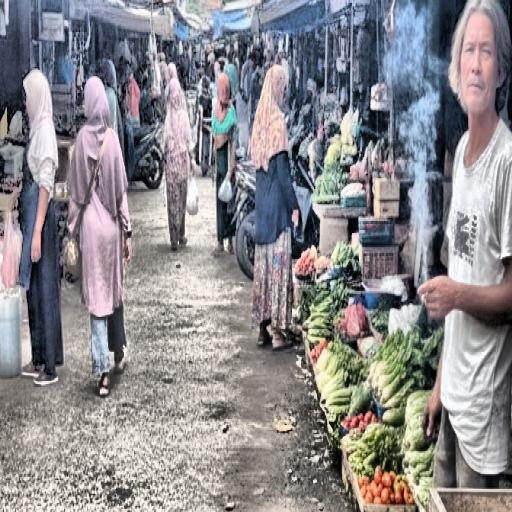Rokok: (389, 0, 512, 488)
